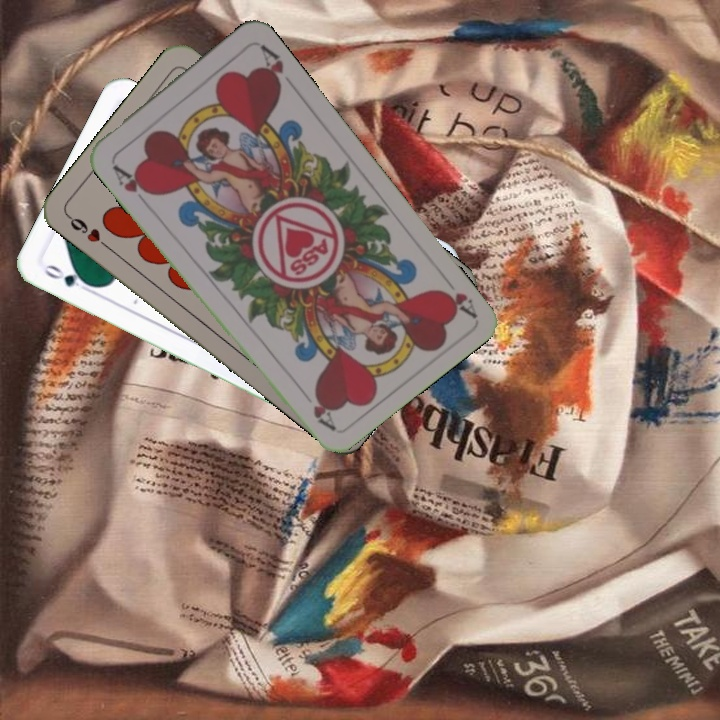GO: (40, 260, 96, 296)
H9: (64, 211, 114, 253)
HA: (108, 157, 156, 207), (434, 268, 479, 319)
